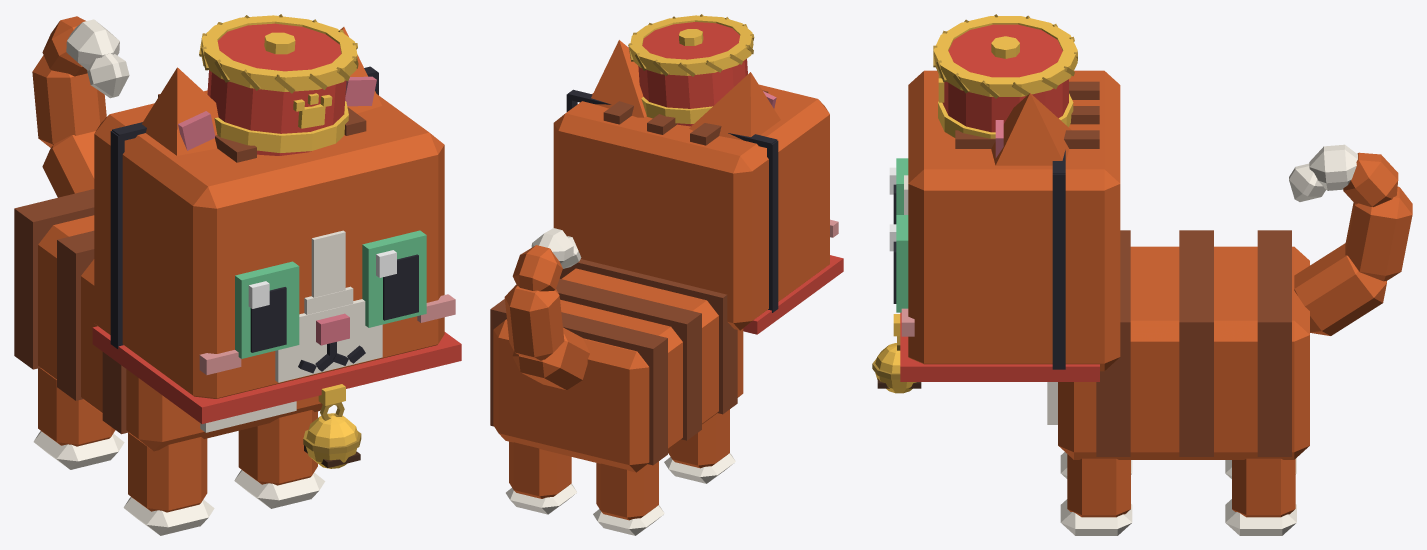
The model's file is CatCafe_Cat_BellhopCat.fbx.
3 views of the same model, side by side, from view 1: azimuth 30°, elevation 25°; view 2: azimuth 150°, elevation 25°; view 3: azimuth 270°, elevation 25° (orthographic). The views are drawn at different scales.
Visible parts, largest first — view 1: CatCafe_Cat_BellhopCat_Head, CatCafe_Cat_BellhopCat_Body, CatCafe_Cat_BellhopCat_Prop, CatCafe_Cat_BellhopCat_Prop2, CatCafe_Cat_BellhopCat_Tail, CatCafe_Cat_BellhopCat_LegF2, CatCafe_Cat_BellhopCat_LegF1, CatCafe_Cat_BellhopCat_Eye2, CatCafe_Cat_BellhopCat_Eye1, CatCafe_Cat_BellhopCat_LegB2, CatCafe_Cat_BellhopCat_EarR, CatCafe_Cat_BellhopCat_Bell (+1 smaller); view 2: CatCafe_Cat_BellhopCat_Head, CatCafe_Cat_BellhopCat_Body, CatCafe_Cat_BellhopCat_Prop, CatCafe_Cat_BellhopCat_Tail, CatCafe_Cat_BellhopCat_Prop2, CatCafe_Cat_BellhopCat_LegB2, CatCafe_Cat_BellhopCat_LegB1, CatCafe_Cat_BellhopCat_EarR, CatCafe_Cat_BellhopCat_LegF2, CatCafe_Cat_BellhopCat_EarL; view 3: CatCafe_Cat_BellhopCat_Head, CatCafe_Cat_BellhopCat_Body, CatCafe_Cat_BellhopCat_Tail, CatCafe_Cat_BellhopCat_Prop, CatCafe_Cat_BellhopCat_Prop2, CatCafe_Cat_BellhopCat_LegF1, CatCafe_Cat_BellhopCat_LegB1, CatCafe_Cat_BellhopCat_EarL, CatCafe_Cat_BellhopCat_Eye1, CatCafe_Cat_BellhopCat_Bell, CatCafe_Cat_BellhopCat_Eye2.
Boxes of the visible parts, x1,y1,x2,y2 form: CatCafe_Cat_BellhopCat_Head: (94, 90, 455, 398); CatCafe_Cat_BellhopCat_Body: (14, 189, 322, 451); CatCafe_Cat_BellhopCat_Prop: (199, 14, 358, 155); CatCafe_Cat_BellhopCat_Prop2: (92, 66, 461, 423); CatCafe_Cat_BellhopCat_Tail: (32, 16, 129, 197); CatCafe_Cat_BellhopCat_LegF2: (123, 432, 214, 535); CatCafe_Cat_BellhopCat_LegF1: (234, 410, 325, 508); CatCafe_Cat_BellhopCat_Eye2: (235, 261, 299, 358); CatCafe_Cat_BellhopCat_Eye1: (362, 230, 426, 327); CatCafe_Cat_BellhopCat_LegB2: (33, 368, 124, 469); CatCafe_Cat_BellhopCat_EarR: (142, 67, 218, 155); CatCafe_Cat_BellhopCat_Bell: (303, 402, 361, 468); CatCafe_Cat_BellhopCat_Head: (553, 84, 838, 330); CatCafe_Cat_BellhopCat_Body: (490, 259, 743, 472); CatCafe_Cat_BellhopCat_Prop: (628, 14, 754, 126); CatCafe_Cat_BellhopCat_Tail: (504, 228, 589, 390); CatCafe_Cat_BellhopCat_Prop2: (566, 89, 843, 334); CatCafe_Cat_BellhopCat_LegB2: (593, 461, 664, 535); CatCafe_Cat_BellhopCat_LegB1: (506, 441, 577, 514); CatCafe_Cat_BellhopCat_EarR: (689, 72, 780, 140); CatCafe_Cat_BellhopCat_LegF2: (664, 409, 735, 483); CatCafe_Cat_BellhopCat_EarL: (591, 40, 646, 117); CatCafe_Cat_BellhopCat_Head: (901, 70, 1120, 371); CatCafe_Cat_BellhopCat_Body: (1047, 230, 1309, 459); CatCafe_Cat_BellhopCat_Tail: (1289, 144, 1412, 335); CatCafe_Cat_BellhopCat_Prop: (933, 14, 1077, 138); CatCafe_Cat_BellhopCat_Prop2: (893, 150, 1099, 381); CatCafe_Cat_BellhopCat_LegF1: (1060, 454, 1132, 535); CatCafe_Cat_BellhopCat_LegB1: (1225, 458, 1296, 535); CatCafe_Cat_BellhopCat_EarL: (991, 93, 1071, 165); CatCafe_Cat_BellhopCat_Eye1: (889, 215, 908, 312); CatCafe_Cat_BellhopCat_Bell: (872, 336, 921, 393); CatCafe_Cat_BellhopCat_Eye2: (889, 158, 908, 224).
Bounding box in the file's own units: 1.04 × 1.92 × 2.04.
1 material, 1 textured.
